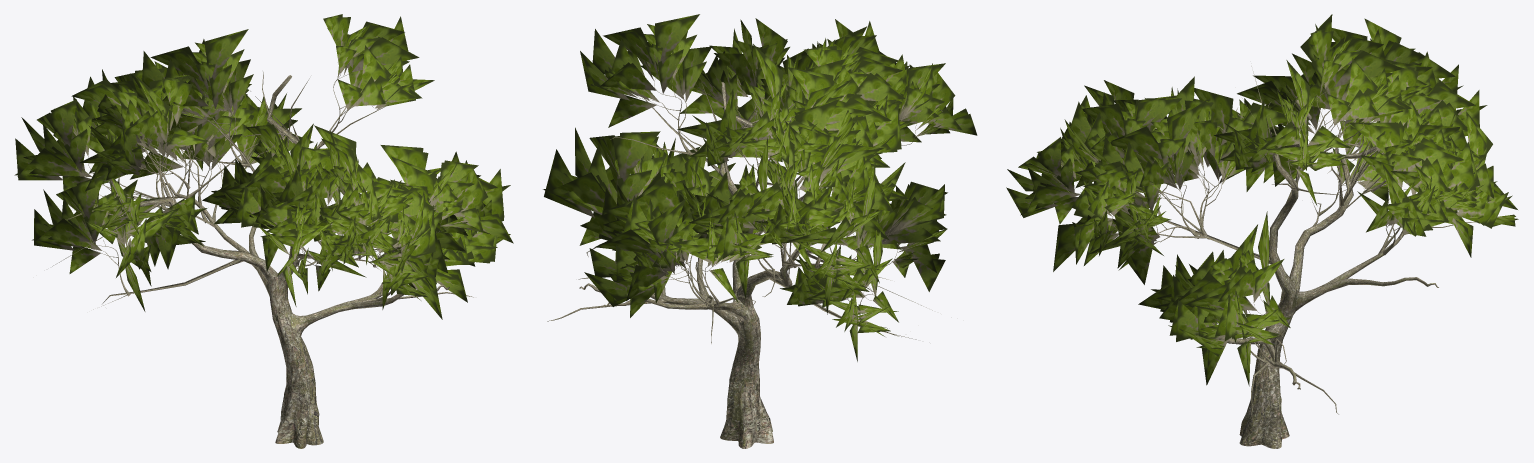
File: oak4.obj
3 renders of one model, left to right at view 1: azimuth 30°, elevation 25°; view 2: azimuth 150°, elevation 25°; view 3: azimuth 270°, elevation 25°, orthographic. The views are drawn at different scales.
Visible parts, largest first — view 1: oak leaf, mossybark03; view 2: oak leaf, mossybark03; view 3: oak leaf, mossybark03.
Part boxes in pixels (x1,y1,x2,y2): oak leaf: (14,14,513,319); mossybark03: (52,63,473,448); oak leaf: (543,14,977,361); mossybark03: (547,70,932,448); oak leaf: (1006,14,1518,386); mossybark03: (1059,66,1475,448).
Size of the model in its own units: 962 by 834 by 979.
2 materials, 2 textured.
